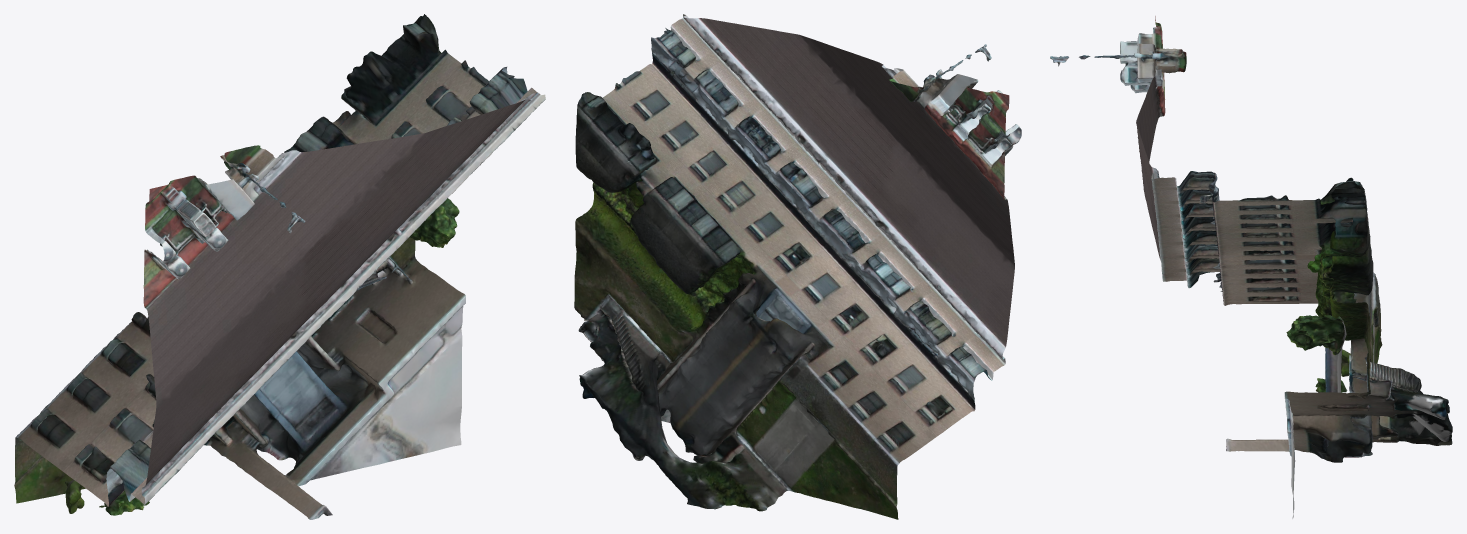
Rendered from Tile_+013_+018.fbx.
The picture shows the model from 3 angles, left to right: view 1: azimuth 30°, elevation 25°; view 2: azimuth 150°, elevation 25°; view 3: azimuth 270°, elevation 25°; orthographic projection. The views are drawn at different scales.
Visible parts, largest first — view 1: DefaultName; view 2: DefaultName; view 3: DefaultName.
Boxes of the visible parts, bbox=[...] form: DefaultName: bbox=[14, 14, 545, 519]; DefaultName: bbox=[574, 14, 1021, 519]; DefaultName: bbox=[1050, 16, 1452, 518].
Bounding box in the file's own units: 22.54 × 22.54 × 23.82.
